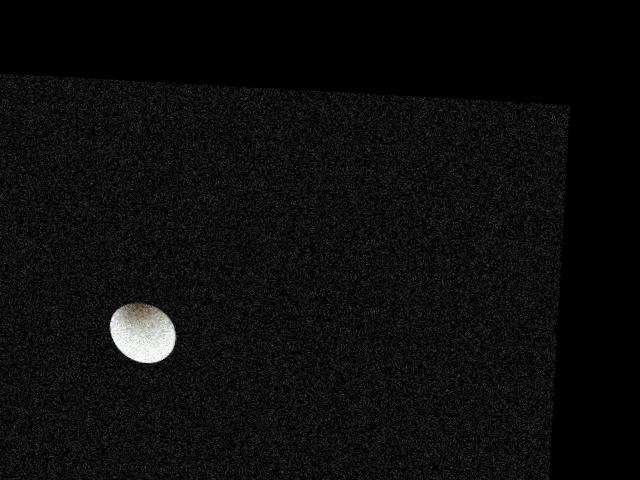egg: (107, 301, 177, 364)
